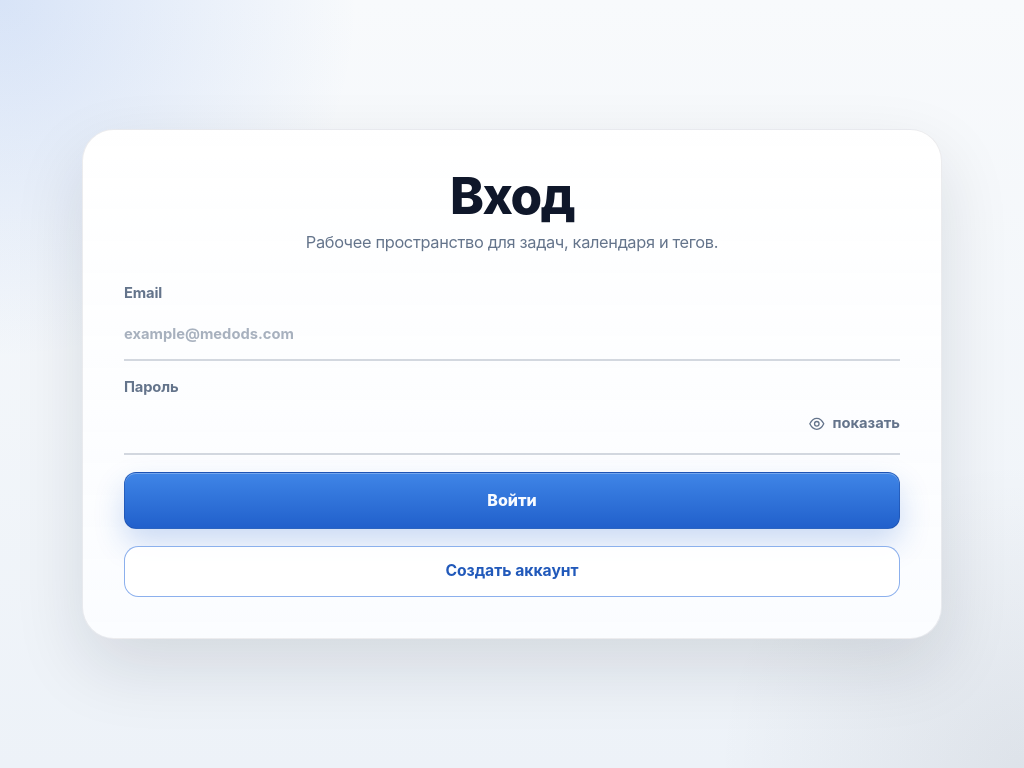
Test: LoginPage › toggles password visibility
Step 1. Click the button with aria-label "Показать пароль" → (854, 430), box x1=808 y1=408 x2=900 y2=452
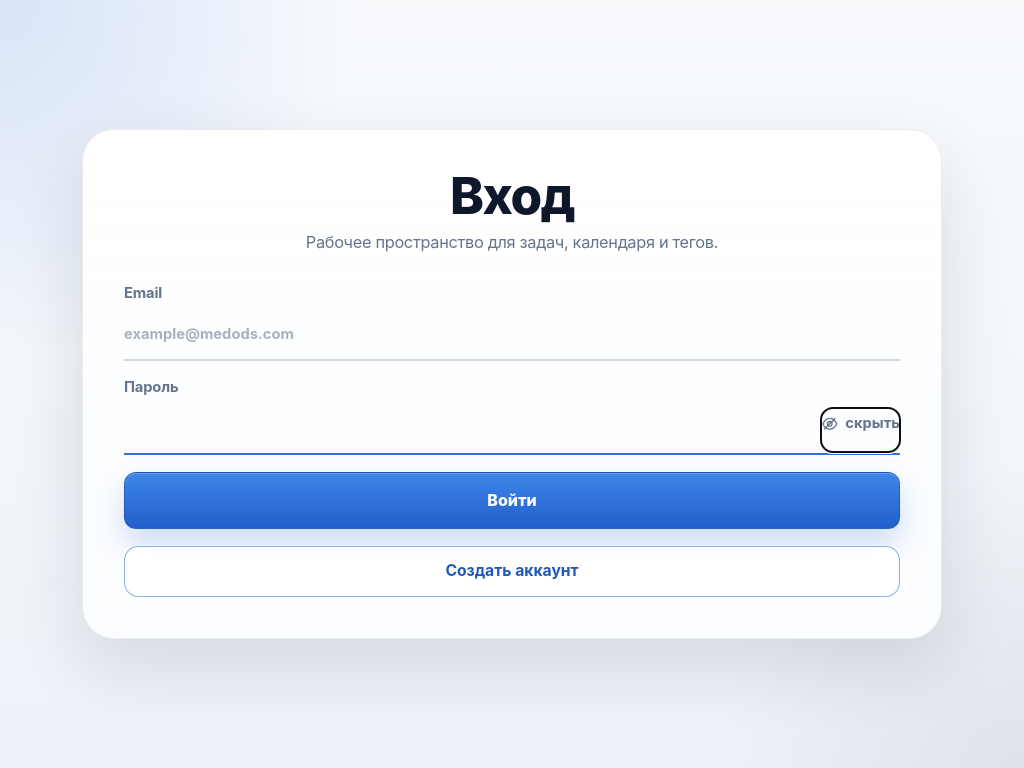
expect the button with aria-label "Скрыть пароль" is shown: met, box x1=821 y1=408 x2=900 y2=452
